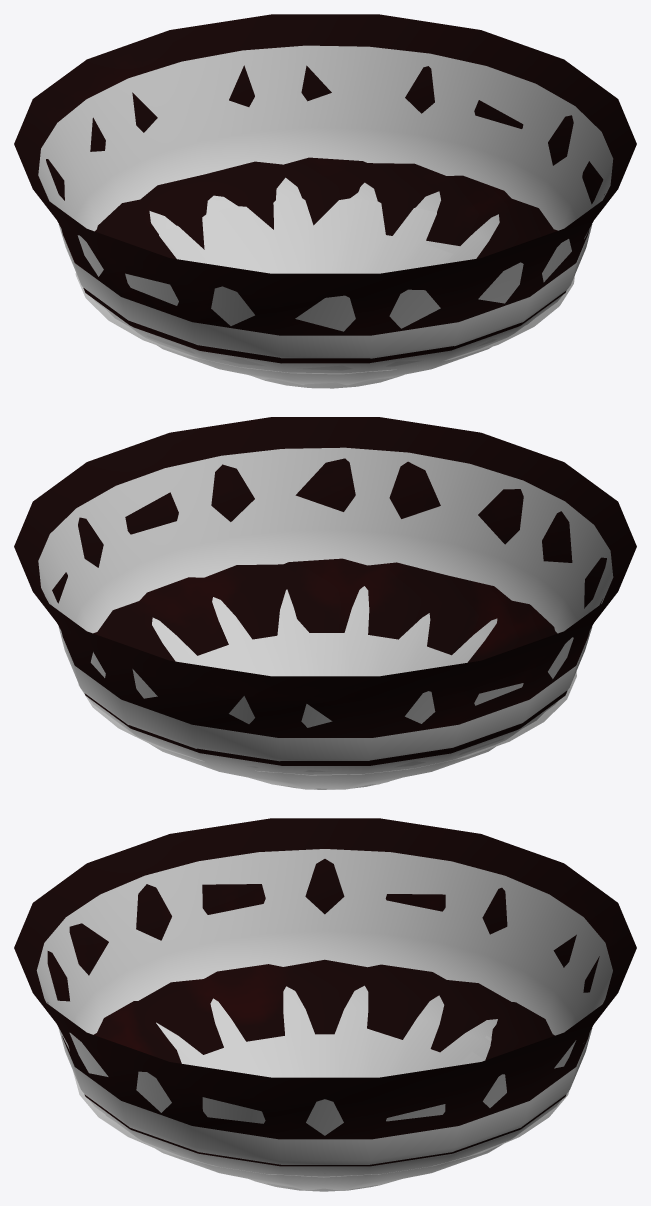
The model's file is huobanronglian_effect.FBX.
3 views of the same model, one above another, from view 1: azimuth 30°, elevation 25°; view 2: azimuth 150°, elevation 25°; view 3: azimuth 270°, elevation 25° (orthographic).
Parts seen in each view (by area): view 1: 2_1, 3_1, 5_1, 1_1; view 2: 2_1, 3_1, 1_1, 5_1; view 3: 2_1, 3_1, 1_1, 5_1.
Part boxes in pixels (x1,y1,x2,y2): 2_1: (14,14,636,363); 3_1: (38,45,613,370); 5_1: (75,198,574,388); 1_1: (58,224,592,385); 2_1: (14,417,636,765); 3_1: (38,447,613,789); 1_1: (58,627,592,789); 5_1: (78,671,576,789); 2_1: (14,818,636,1166); 3_1: (36,849,612,1191); 1_1: (58,1028,592,1190); 5_1: (73,1035,569,1191).
Bounding box in the file's own units: 129 × 49.01 × 131.
